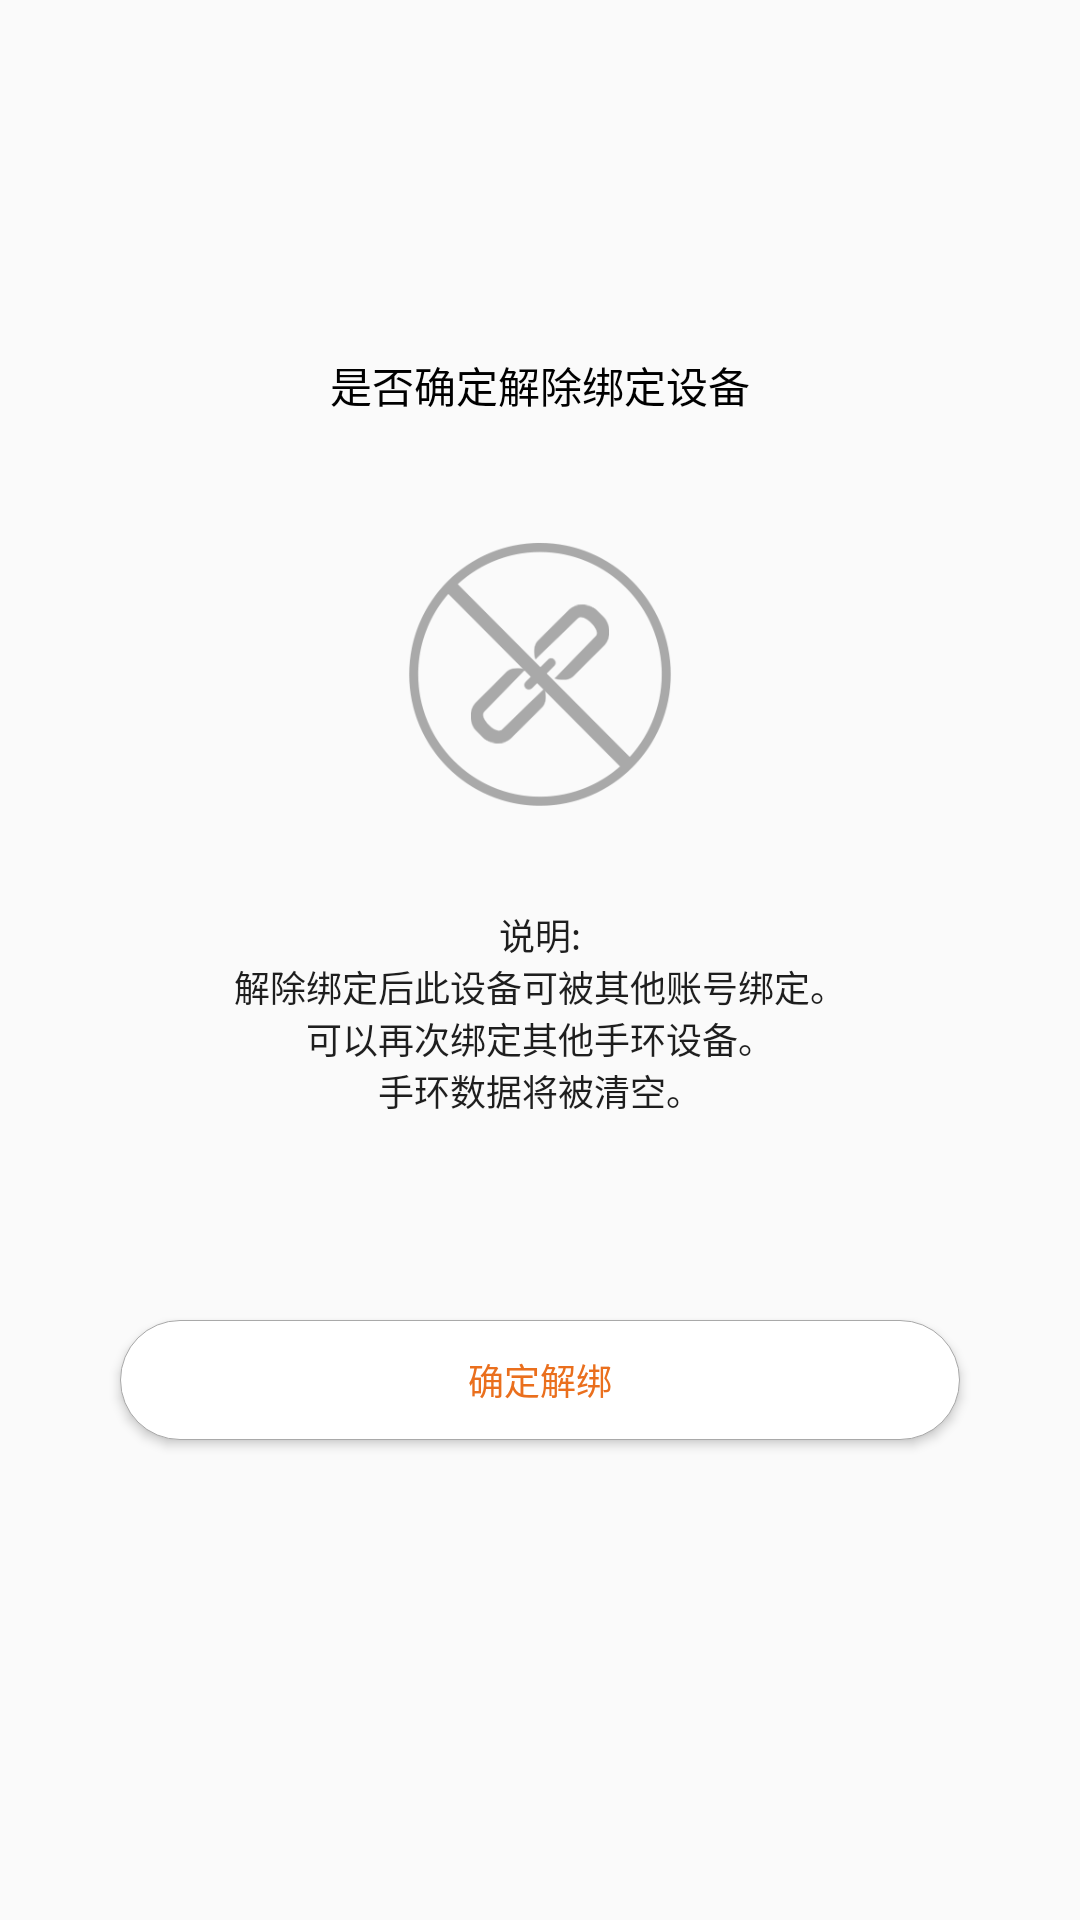

Where to tap for icons on this 1080w x 1920h app screen, as (x,y):
device unbind: (540,674)
